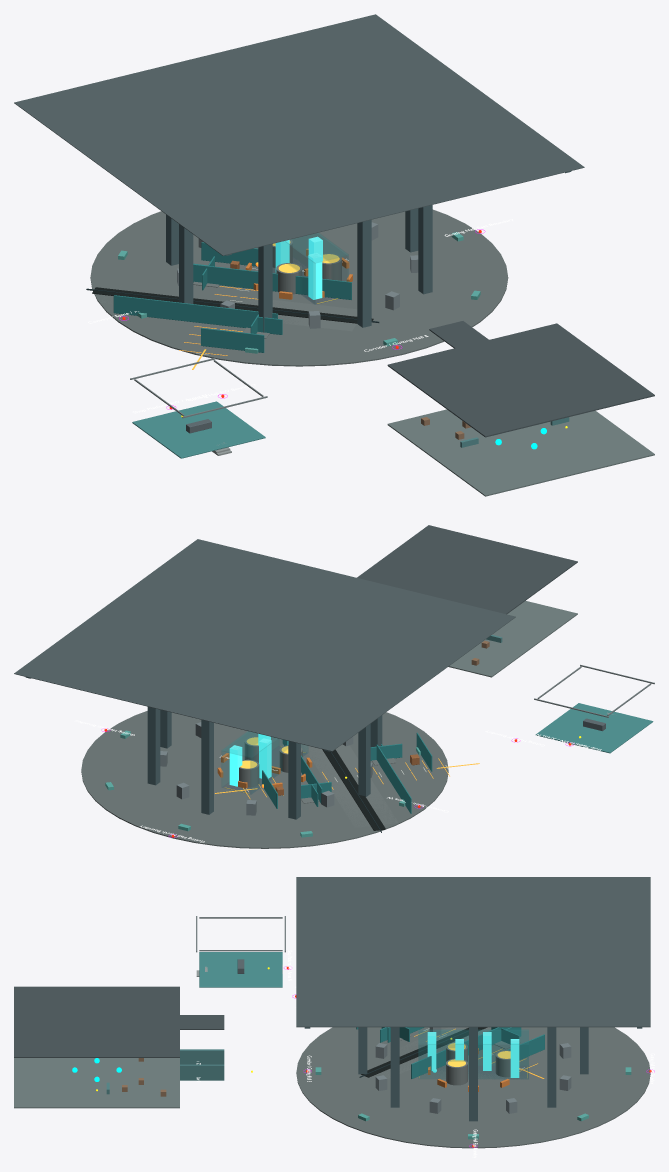
File: saltglass_cannery_composition.glb
3 renders of one model, top to bottom at view 1: azimuth 30°, elevation 25°; view 2: azimuth 150°, elevation 25°; view 3: azimuth 270°, elevation 25°, orthographic. The views are drawn at different scales.
Visible parts, largest first — view 1: SGC_TierA_CathedralCeiling_24m, SGC_ArenaFloor_64m_Diameter, SGC_Ceiling_SpawnZone_30x30, SGC_Floor_SpawnZone_30x30, SGC_Platform_Shop_SW_15x15, GB_CS_BoundaryWall_L_1, GB_CS_BoundaryWall_R_0, SGC_CathedralPillar_05, GB_CS_Floor_40x8, SGC_CathedralPillar_04, SGC_Wall_Corridor_West_TierB, GB_CS_BoundaryWall_R_1 (+7 smaller); view 2: SGC_TierA_CathedralCeiling_24m, SGC_ArenaFloor_64m_Diameter, SGC_Ceiling_SpawnZone_30x30, SGC_Floor_SpawnZone_30x30, SGC_Platform_Shop_SW_15x15, GB_CS_Floor_40x8, SGC_Wall_Corridor_West_TierB, SGC_CathedralPillar_01, SGC_CathedralPillar_02, SGC_CathedralPillar_08, SGC_CathedralPillar_07, GB_CS_Conveyor_Belt_A (+7 smaller); view 3: SGC_TierA_CathedralCeiling_24m, SGC_ArenaFloor_64m_Diameter, SGC_Ceiling_SpawnZone_30x30, SGC_Floor_SpawnZone_30x30, SGC_Wall_Corridor_East_TierB, SGC_Platform_Shop_SW_15x15, SGC_Wall_Corridor_West_TierB, SGC_Ceiling_Corridor_TierB, SGC_CathedralPillar_03, SGC_CathedralPillar_02, SGC_CathedralPillar_04, GB_CS_BoundaryWall_R_0 (+10 smaller).
Boxes of the visible parts, left/top/right/bottom form: SGC_TierA_CathedralCeiling_24m: left=14, top=14, right=584, bottom=255; SGC_ArenaFloor_64m_Diameter: left=90, top=209, right=508, bottom=366; SGC_Ceiling_SpawnZone_30x30: left=387, top=323, right=654, bottom=437; SGC_Floor_SpawnZone_30x30: left=387, top=409, right=654, bottom=496; SGC_Platform_Shop_SW_15x15: left=132, top=401, right=265, bottom=458; GB_CS_BoundaryWall_L_1: left=113, top=295, right=277, bottom=327; GB_CS_BoundaryWall_R_0: left=193, top=264, right=351, bottom=299; SGC_CathedralPillar_05: left=357, top=220, right=371, bottom=327; GB_CS_Floor_40x8: left=100, top=295, right=357, bottom=331; SGC_CathedralPillar_04: left=418, top=205, right=432, bottom=294; SGC_Wall_Corridor_West_TierB: left=257, top=241, right=315, bottom=304; GB_CS_BoundaryWall_R_1: left=201, top=328, right=264, bottom=352; SGC_TierA_CathedralCeiling_24m: left=14, top=539, right=515, bottom=751; SGC_ArenaFloor_64m_Diameter: left=81, top=711, right=448, bottom=848; SGC_Ceiling_SpawnZone_30x30: left=357, top=525, right=577, bottom=614; SGC_Floor_SpawnZone_30x30: left=448, top=601, right=577, bottom=677; SGC_Platform_Shop_SW_15x15: left=535, top=703, right=653, bottom=753; GB_CS_Floor_40x8: left=302, top=744, right=398, bottom=827; SGC_Wall_Corridor_West_TierB: left=250, top=739, right=308, bottom=793; SGC_CathedralPillar_01: left=201, top=720, right=213, bottom=814; SGC_CathedralPillar_02: left=147, top=707, right=160, bottom=785; SGC_CathedralPillar_08: left=288, top=741, right=300, bottom=819; SGC_CathedralPillar_07: left=358, top=724, right=370, bottom=796; GB_CS_Conveyor_Belt_A: left=322, top=749, right=385, bottom=830; SGC_TierA_CathedralCeiling_24m: left=296, top=877, right=650, bottom=1027; SGC_ArenaFloor_64m_Diameter: left=296, top=1027, right=650, bottom=1148; SGC_Ceiling_SpawnZone_30x30: left=14, top=986, right=179, bottom=1057; SGC_Floor_SpawnZone_30x30: left=14, top=1058, right=179, bottom=1108; SGC_Wall_Corridor_East_TierB: left=418, top=1044, right=528, bottom=1078; SGC_Platform_Shop_SW_15x15: left=199, top=952, right=282, bottom=987; SGC_Wall_Corridor_West_TierB: left=419, top=1031, right=528, bottom=1065; SGC_Ceiling_Corridor_TierB: left=418, top=1029, right=528, bottom=1044; SGC_CathedralPillar_03: left=469, top=1027, right=477, bottom=1121; SGC_CathedralPillar_02: left=547, top=1027, right=556, bottom=1107; SGC_CathedralPillar_04: left=390, top=1027, right=399, bottom=1107; GB_CS_BoundaryWall_R_0: left=411, top=1027, right=509, bottom=1078.
Bounding box in the file's own units: 87.56 × 24.25 × 116.
